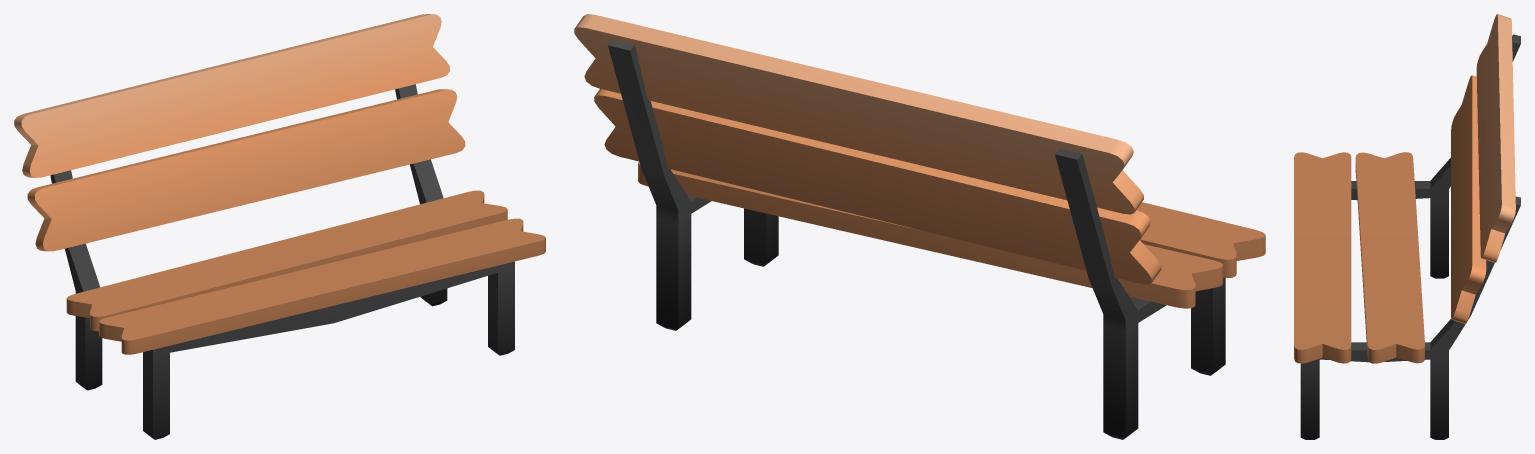
File: Bench.glb
3 renders of one model, left to right at view 1: azimuth 30°, elevation 25°; view 2: azimuth 150°, elevation 25°; view 3: azimuth 270°, elevation 25°, orthographic. The views are drawn at different scales.
Parts seen in each view (by area): view 1: bench; view 2: bench; view 3: bench.
Boxes of the visible parts, box(x1,y1,x2,y2) form: bench: box(14, 14, 545, 439); bench: box(574, 14, 1265, 439); bench: box(1294, 14, 1520, 439).
Bounding box in the file's own units: 1.54 × 0.9 × 0.7475.
1 material, 1 textured.
